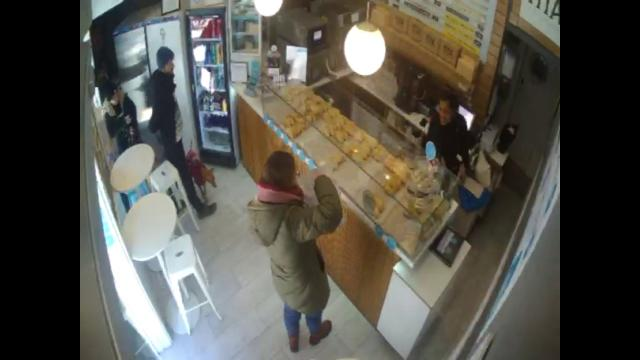cliente: (248, 150, 342, 352), (146, 47, 216, 218), (100, 79, 140, 154)
empleado: (425, 97, 474, 176)
